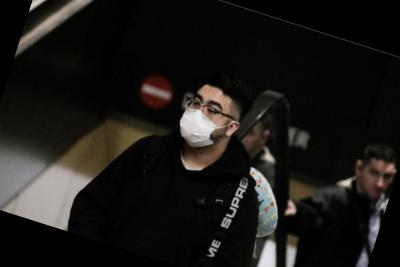with_mask: (172, 89, 235, 156)
without_mask: (360, 161, 398, 204)
